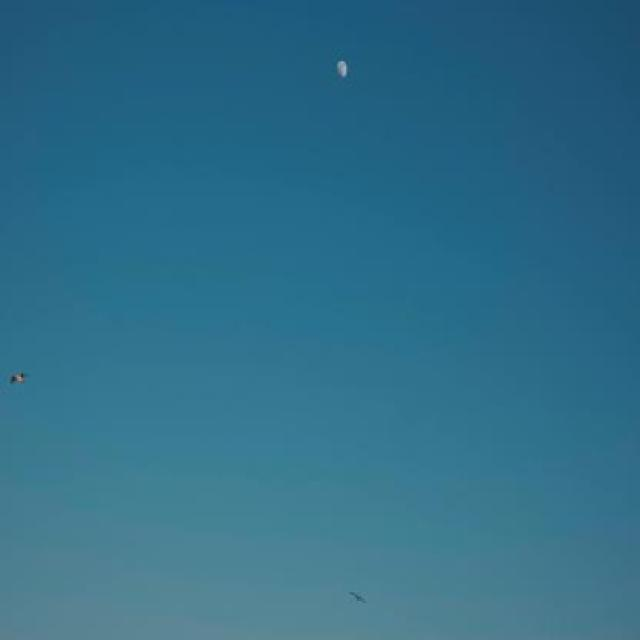bird: (343, 581, 368, 608), (4, 362, 28, 389)
